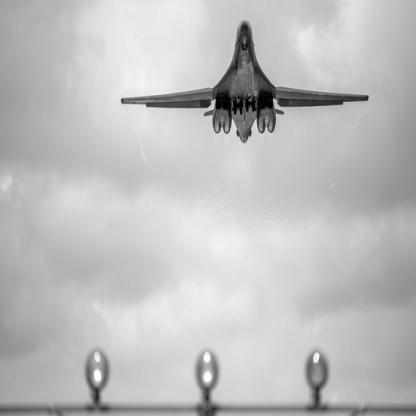B1: (122, 19, 370, 145)
